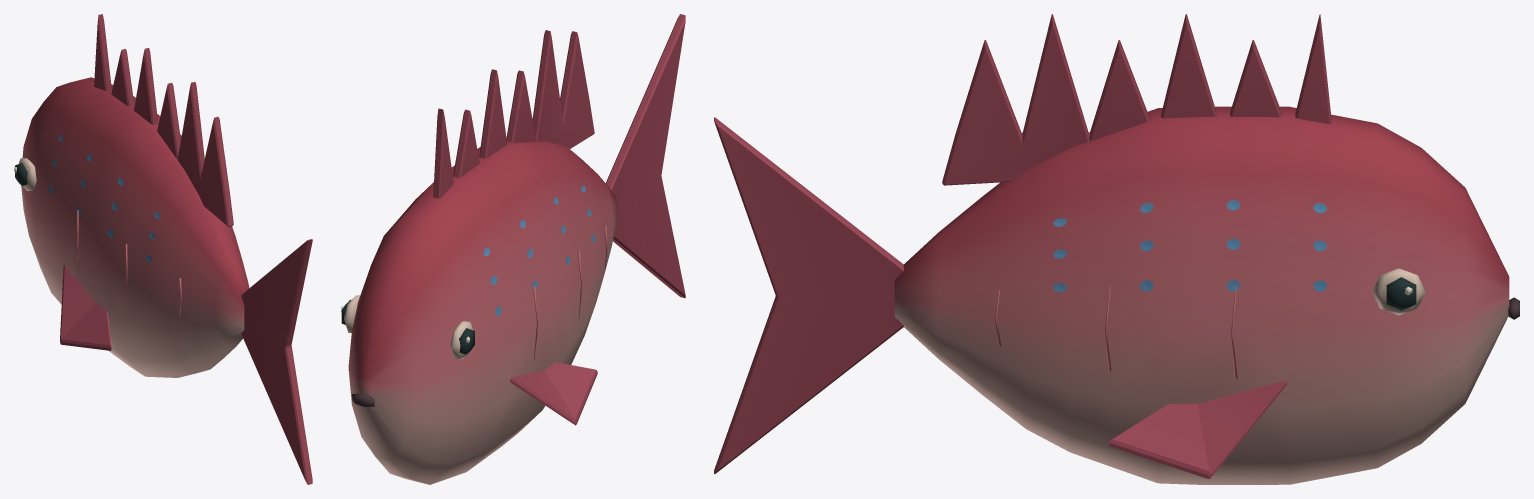
Rendered from fish_red_seabream.glb.
3 views of the same model, side by side, from view 1: azimuth 30°, elevation 25°; view 2: azimuth 150°, elevation 25°; view 3: azimuth 270°, elevation 25° (orthographic). The views are drawn at different scales.
Size of the model in its own units: 0.1301 by 0.2525 by 0.3997.
